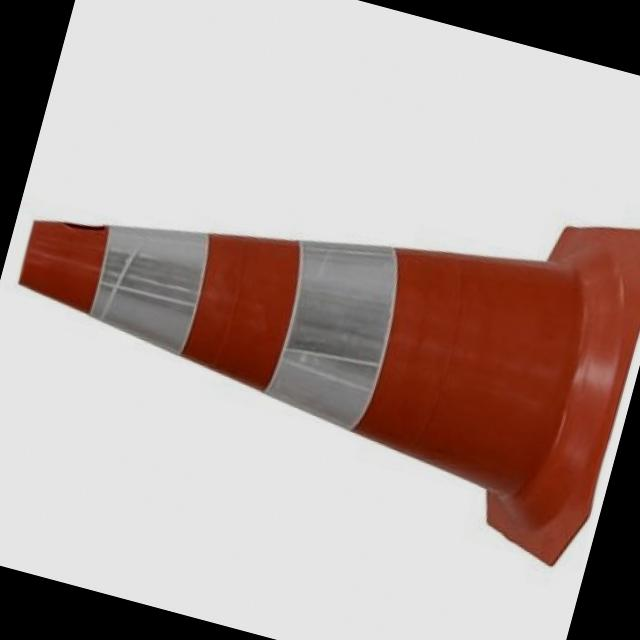cone: (0, 37, 640, 580)
